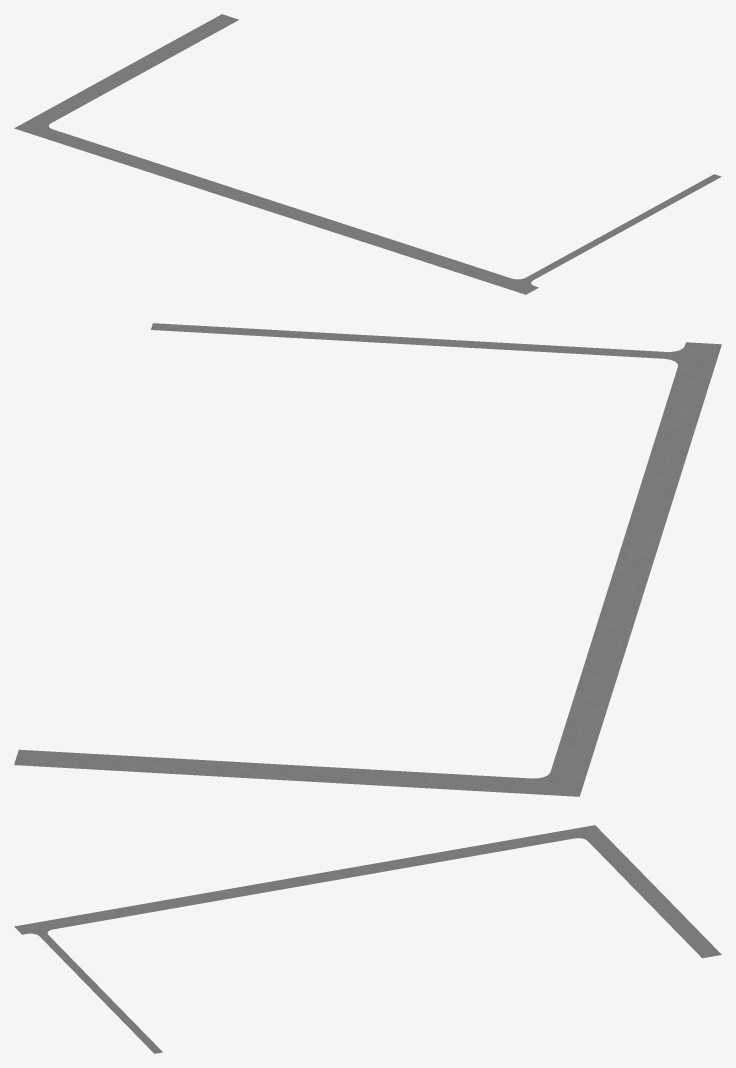
The model's file is road.glb.
The picture shows the model from 3 angles, top to bottom: view 1: azimuth 30°, elevation 25°; view 2: azimuth 150°, elevation 25°; view 3: azimuth 270°, elevation 25°; orthographic projection. The views are drawn at different scales.
Visible parts, largest first — view 1: road; view 2: road; view 3: road.
Boxes of the visible parts, x1,y1,x2,y2 form: road: (14,14,721,294); road: (14,323,721,796); road: (14,825,721,1053).
Size of the model in its own units: 2359 by 0.00052 by 3085.
1 material, 1 textured.
